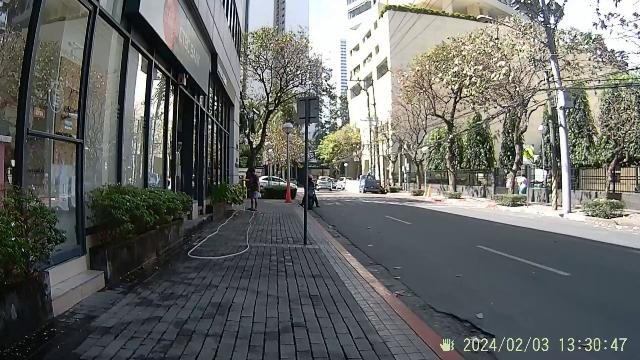lamp_post: (281, 120, 295, 200)
street_sign: (293, 93, 321, 210)
